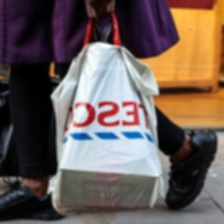plastic_bag: (46, 38, 169, 218)
